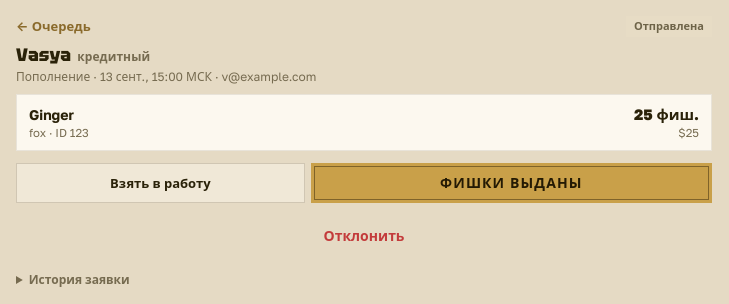
AdminChipRequestPage › credit request: issues chips in one tap
The image size is (729, 304).
Click the button "Фишки выданы": (511, 183) [311,163,712,203]
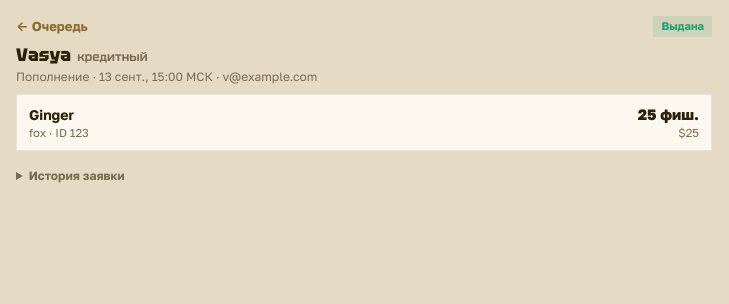
Check: the text "Выдана" is shown, box [654,16,712,36]
